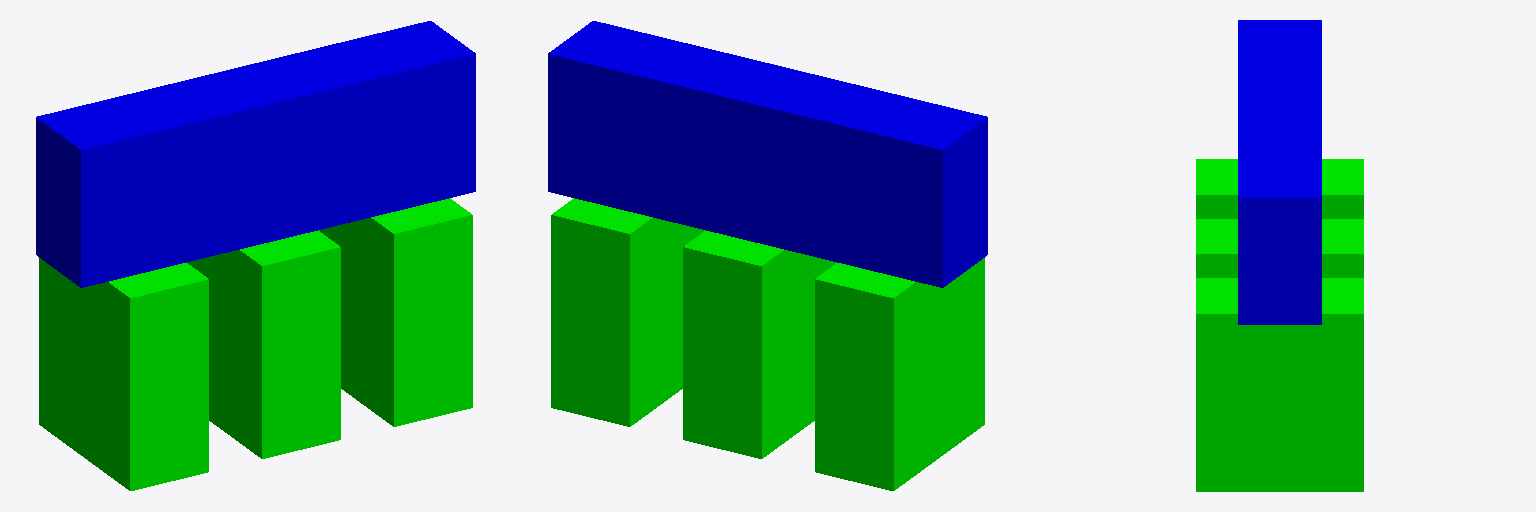
The robot description file, URDF, robot "robot":
<robot name = "robot">
    <link name="root">
        <inertial>
            <origin xyz="0.0 0.0 1.5" rpy="0 0 0"/>
            <mass value="1" />
            <inertia ixx="100" ixy="0" ixz="0" iyy="100" iyz="0" izz="100" />
        </inertial>
        <visual>
            <origin xyz="0.0 0.0 1.5" rpy="0 0 0"/>
            <geometry>
                <box size="0 0 0.0001" />
            </geometry>
            <material name="Green">
                <color rgba="0 1.0 0.0 1.0"/>
            </material>
        </visual>
        <collision>
            <origin xyz="0.0 0.0 1.5" rpy="0 0 0"/>
            <geometry>
                <box size="0 0 0.0001" />
            </geometry>
        </collision>
    </link>
    <joint name="root_000" type="revolute">
       <parent link="root"/>
       <child  link="000"/>
       <origin rpy="0 0 0" xyz="0.0 0.0 1.5" />
     <axis xyz="1 0 0"/>
       <limit effort="0.0" lower="-3.14159" upper="3.14159" velocity="0.0"/>
    </joint>
    <link name="000">
        <inertial>
            <origin xyz="0.25 0.0 0.0" rpy="0 0 0"/>
            <mass value="1" />
            <inertia ixx="100" ixy="0" ixz="0" iyy="100" iyz="0" izz="100" />
        </inertial>
        <visual>
            <origin xyz="0.25 0.0 0.0" rpy="0 0 0"/>
            <geometry>
                <box size="0.5 0.3 0.5" />
            </geometry>
            <material name="Blue">
                <color rgba="0 0.0 1.0 1.0"/>
            </material>
        </visual>
        <collision>
            <origin xyz="0.25 0.0 0.0" rpy="0 0 0"/>
            <geometry>
                <box size="0.5 0.3 0.5" />
            </geometry>
        </collision>
    </link>
    <joint name="000_010" type="revolute">
       <parent link="000"/>
       <child  link="010"/>
       <origin rpy="0 0 0" xyz="0.5 0.0 -0.0" />
     <axis xyz="1 0 0"/>
       <limit effort="0.0" lower="-3.14159" upper="3.14159" velocity="0.0"/>
    </joint>
    <link name="010">
        <inertial>
            <origin xyz="0.25 0.0 -0.0" rpy="0 0 0"/>
            <mass value="1" />
            <inertia ixx="100" ixy="0" ixz="0" iyy="100" iyz="0" izz="100" />
        </inertial>
        <visual>
            <origin xyz="0.25 0.0 -0.0" rpy="0 0 0"/>
            <geometry>
                <box size="0.5 0.3 0.5" />
            </geometry>
            <material name="Blue">
                <color rgba="0 0.0 1.0 1.0"/>
            </material>
        </visual>
        <collision>
            <origin xyz="0.25 0.0 -0.0" rpy="0 0 0"/>
            <geometry>
                <box size="0.5 0.3 0.5" />
            </geometry>
        </collision>
    </link>
    <joint name="010_020" type="revolute">
       <parent link="010"/>
       <child  link="020"/>
       <origin rpy="0 0 0" xyz="0.5 0.0 -0.0" />
     <axis xyz="1 0 0"/>
       <limit effort="0.0" lower="-3.14159" upper="3.14159" velocity="0.0"/>
    </joint>
    <link name="020">
        <inertial>
            <origin xyz="0.25 0.0 -0.0" rpy="0 0 0"/>
            <mass value="1" />
            <inertia ixx="100" ixy="0" ixz="0" iyy="100" iyz="0" izz="100" />
        </inertial>
        <visual>
            <origin xyz="0.25 0.0 -0.0" rpy="0 0 0"/>
            <geometry>
                <box size="0.5 0.3 0.5" />
            </geometry>
            <material name="Blue">
                <color rgba="0 0.0 1.0 1.0"/>
            </material>
        </visual>
        <collision>
            <origin xyz="0.25 0.0 -0.0" rpy="0 0 0"/>
            <geometry>
                <box size="0.5 0.3 0.5" />
            </geometry>
        </collision>
    </link>
    <joint name="020_020-100" type="revolute">
       <parent link="020"/>
       <child  link="020-100"/>
       <origin rpy="0 0 0" xyz="0.25 0.0 -0.25" />
     <axis xyz="0 0 1"/>
       <limit effort="0.0" lower="-3.14159" upper="3.14159" velocity="0.0"/>
    </joint>
    <link name="020-100">
        <inertial>
            <origin xyz="0.0 0.0 -0.35" rpy="0 0 0"/>
            <mass value="1" />
            <inertia ixx="100" ixy="0" ixz="0" iyy="100" iyz="0" izz="100" />
        </inertial>
        <visual>
            <origin xyz="0.0 0.0 -0.35" rpy="0 0 0"/>
            <geometry>
                <box size="0.3 0.6 0.7" />
            </geometry>
            <material name="Green">
                <color rgba="0 1.0 0.0 1.0"/>
            </material>
        </visual>
        <collision>
            <origin xyz="0.0 0.0 -0.35" rpy="0 0 0"/>
            <geometry>
                <box size="0.3 0.6 0.7" />
            </geometry>
        </collision>
    </link>
    <joint name="010_010-100" type="revolute">
       <parent link="010"/>
       <child  link="010-100"/>
       <origin rpy="0 0 0" xyz="0.25 0.0 -0.25" />
     <axis xyz="0 0 1"/>
       <limit effort="0.0" lower="-3.14159" upper="3.14159" velocity="0.0"/>
    </joint>
    <link name="010-100">
        <inertial>
            <origin xyz="0.0 0.0 -0.35" rpy="0 0 0"/>
            <mass value="1" />
            <inertia ixx="100" ixy="0" ixz="0" iyy="100" iyz="0" izz="100" />
        </inertial>
        <visual>
            <origin xyz="0.0 0.0 -0.35" rpy="0 0 0"/>
            <geometry>
                <box size="0.3 0.6 0.7" />
            </geometry>
            <material name="Green">
                <color rgba="0 1.0 0.0 1.0"/>
            </material>
        </visual>
        <collision>
            <origin xyz="0.0 0.0 -0.35" rpy="0 0 0"/>
            <geometry>
                <box size="0.3 0.6 0.7" />
            </geometry>
        </collision>
    </link>
    <joint name="000_000-100" type="revolute">
       <parent link="000"/>
       <child  link="000-100"/>
       <origin rpy="0 0 0" xyz="0.25 0.0 -0.25" />
     <axis xyz="0 0 1"/>
       <limit effort="0.0" lower="-3.14159" upper="3.14159" velocity="0.0"/>
    </joint>
    <link name="000-100">
        <inertial>
            <origin xyz="0.0 0.0 -0.35" rpy="0 0 0"/>
            <mass value="1" />
            <inertia ixx="100" ixy="0" ixz="0" iyy="100" iyz="0" izz="100" />
        </inertial>
        <visual>
            <origin xyz="0.0 0.0 -0.35" rpy="0 0 0"/>
            <geometry>
                <box size="0.3 0.6 0.7" />
            </geometry>
            <material name="Green">
                <color rgba="0 1.0 0.0 1.0"/>
            </material>
        </visual>
        <collision>
            <origin xyz="0.0 0.0 -0.35" rpy="0 0 0"/>
            <geometry>
                <box size="0.3 0.6 0.7" />
            </geometry>
        </collision>
    </link>
</robot>

--- What the picture shows (computed from the rendered views, not written in the file) ---
Views: 3 orthographic renders of the robot side by side, from view 1: azimuth 30°, elevation 25°; view 2: azimuth 150°, elevation 25°; view 3: azimuth 270°, elevation 25°.
Robot: robot — 7 links, 6 joints (6 revolute); root link root; default pose: every joint at zero.
Visible links, largest first — view 1: 000-100, 000, 020-100, 010-100, 010, 020; view 2: 000-100, 000, 020-100, 010-100, 010, 020; view 3: 020-100, 020, 000, 000-100, 010, 010-100.
Boxes of the visible links, left/top/right/bottom form: 000-100: left=39, top=258, right=208, bottom=490; 000: left=36, top=85, right=212, bottom=287; 020-100: left=319, top=198, right=472, bottom=426; 010-100: left=187, top=230, right=340, bottom=458; 010: left=168, top=53, right=344, bottom=255; 020: left=300, top=21, right=475, bottom=223; 000-100: left=815, top=258, right=984, bottom=490; 000: left=811, top=85, right=987, bottom=287; 020-100: left=551, top=198, right=704, bottom=426; 010-100: left=683, top=230, right=836, bottom=458; 010: left=679, top=53, right=855, bottom=255; 020: left=548, top=21, right=723, bottom=223; 020-100: left=1196, top=278, right=1363, bottom=491; 020: left=1238, top=139, right=1321, bottom=324; 000: left=1238, top=20, right=1321, bottom=79; 000-100: left=1196, top=159, right=1363, bottom=218; 010: left=1238, top=80, right=1321, bottom=138; 010-100: left=1196, top=219, right=1363, bottom=277.
Size in the robot's own frame: 1.5 by 0.6 by 1.2 metres.
Geometry: primitives only (box / cylinder / sphere), no mesh files.